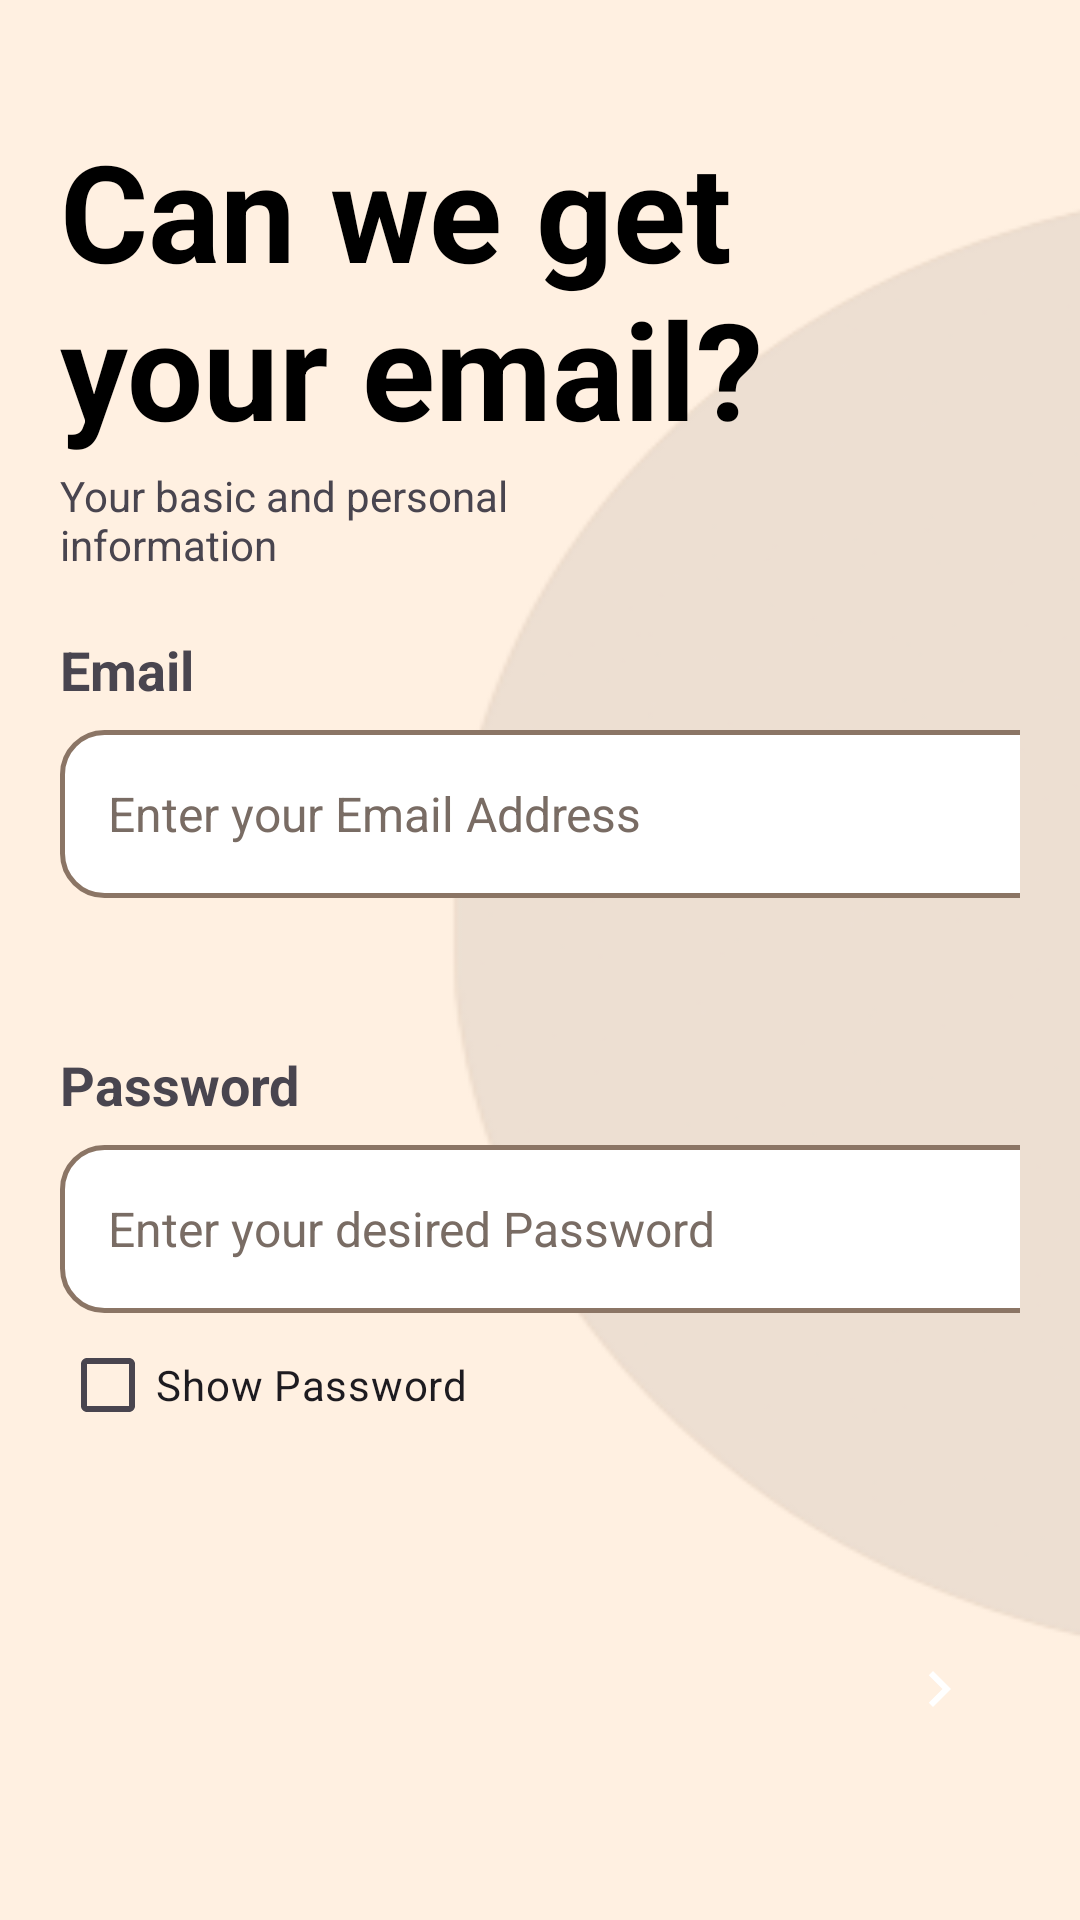

Icon click points for this 1080px x 1920px phone screenshot, format point (x, y):
Continue: point (939, 1689)
